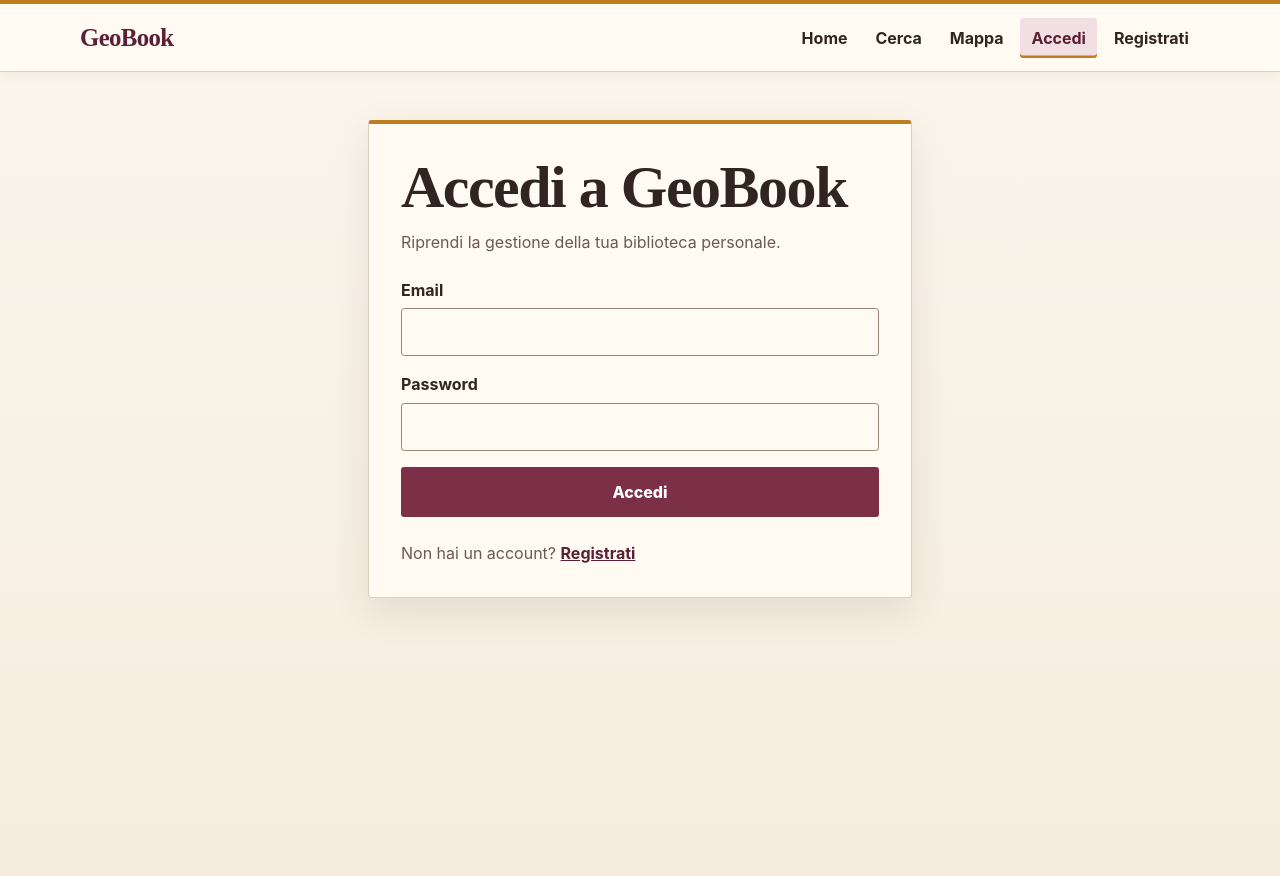
Scenario: authentication flows › logs in with a credentialed request and opens the profile
This screenshot has width=1280, height=876.
Type "giulia@example.test" into the field labelled "Email".
click(640, 332); type("giulia@example.test")  # box [401, 308, 879, 356]
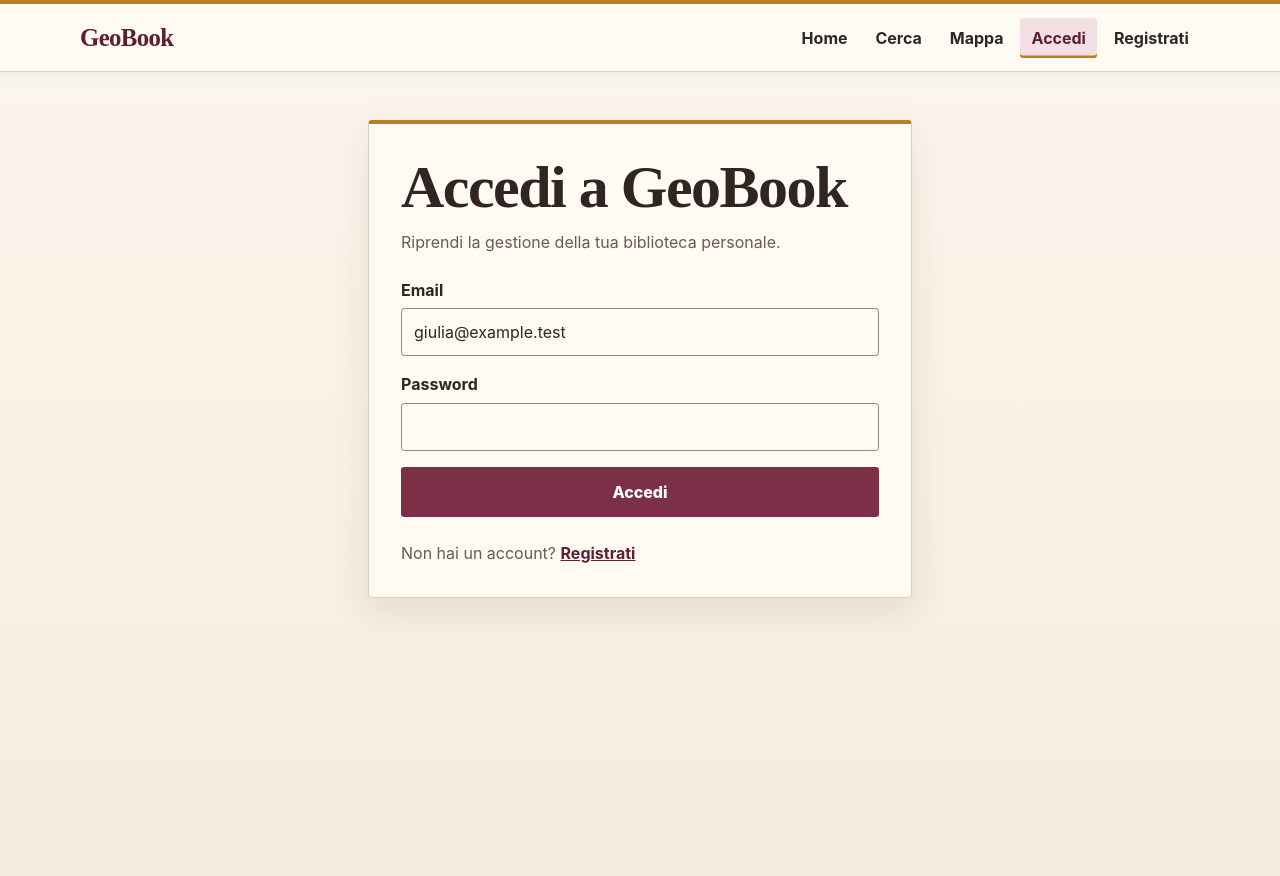
Type "PasswordDemo1!" into the password field labelled "Password".
click(640, 427); type("PasswordDemo1!")  # box [401, 403, 879, 451]
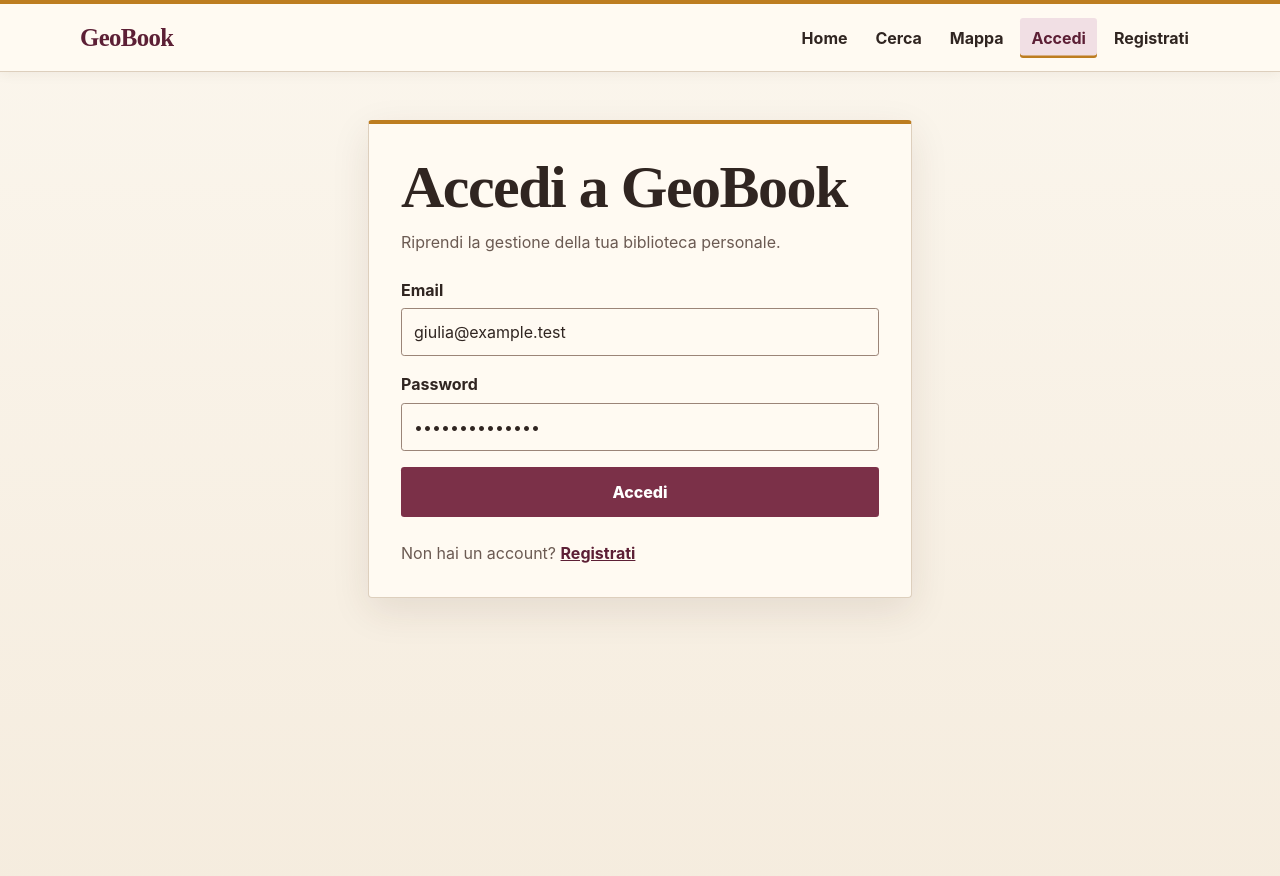
Click the button "Accedi".
click(640, 492)  # box [401, 467, 879, 517]
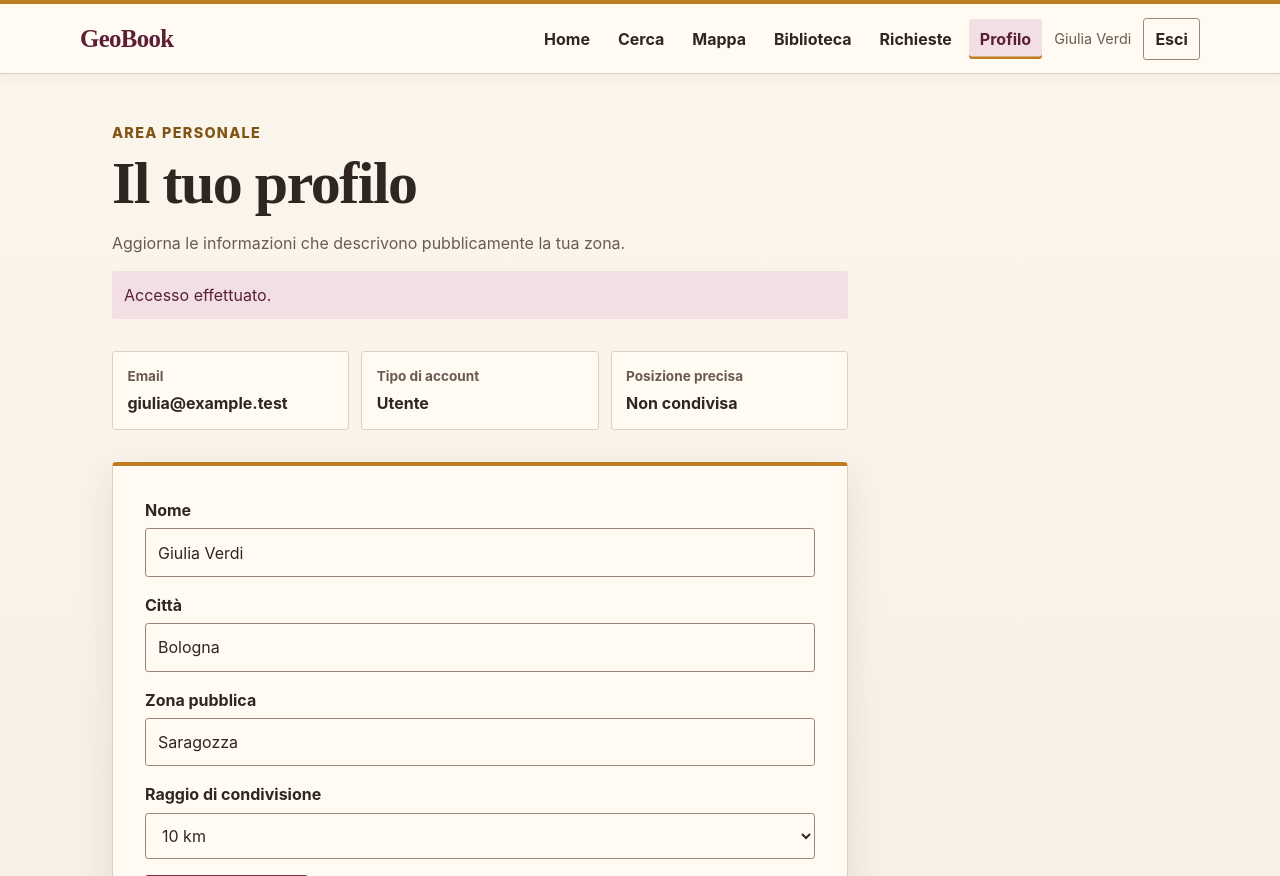
Check: the field showing "Giulia Verdi" is shown, box [145, 528, 815, 577]
Check: the heading "Il tuo profilo" is shown, box [112, 150, 417, 216]
